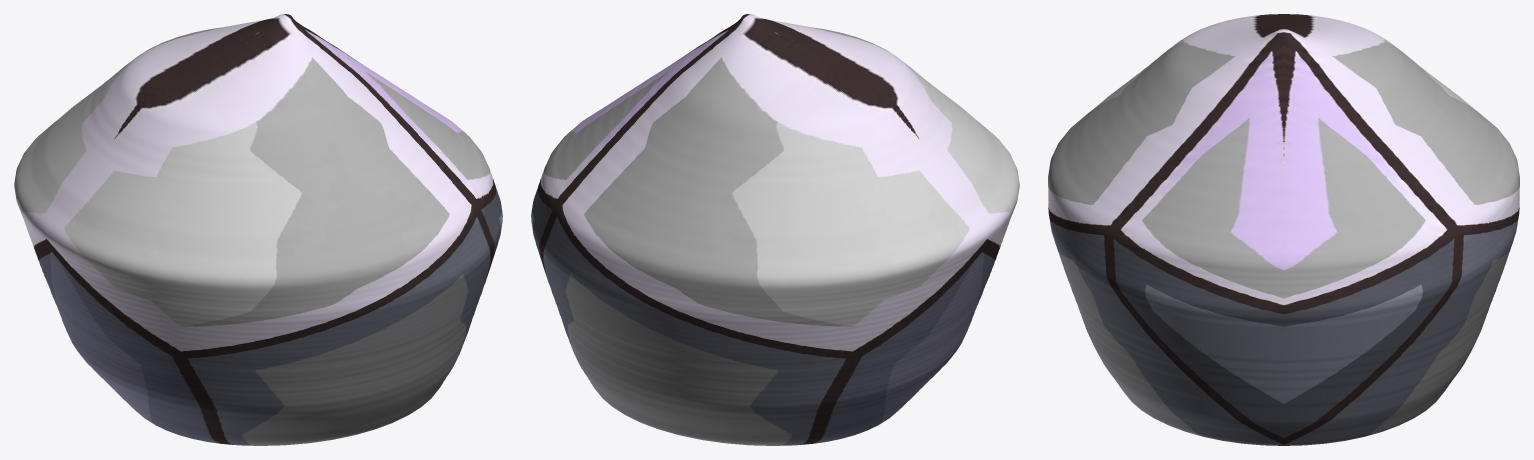
The model's file is small_boulder.glb.
The picture shows the model from 3 angles, left to right: view 1: azimuth 30°, elevation 25°; view 2: azimuth 150°, elevation 25°; view 3: azimuth 270°, elevation 25°; orthographic projection.
Parts seen in each view (by area): view 1: small_boulder; view 2: small_boulder; view 3: small_boulder.
Boxes of the visible parts, left/top/right/bottom form: small_boulder: left=14, top=14, right=502, bottom=445; small_boulder: left=531, top=14, right=1019, bottom=445; small_boulder: left=1048, top=14, right=1519, bottom=445.
Size of the model in its own units: 0.9955 by 0.8841 by 0.9727.
Materials: 1 (1 with a texture image).
